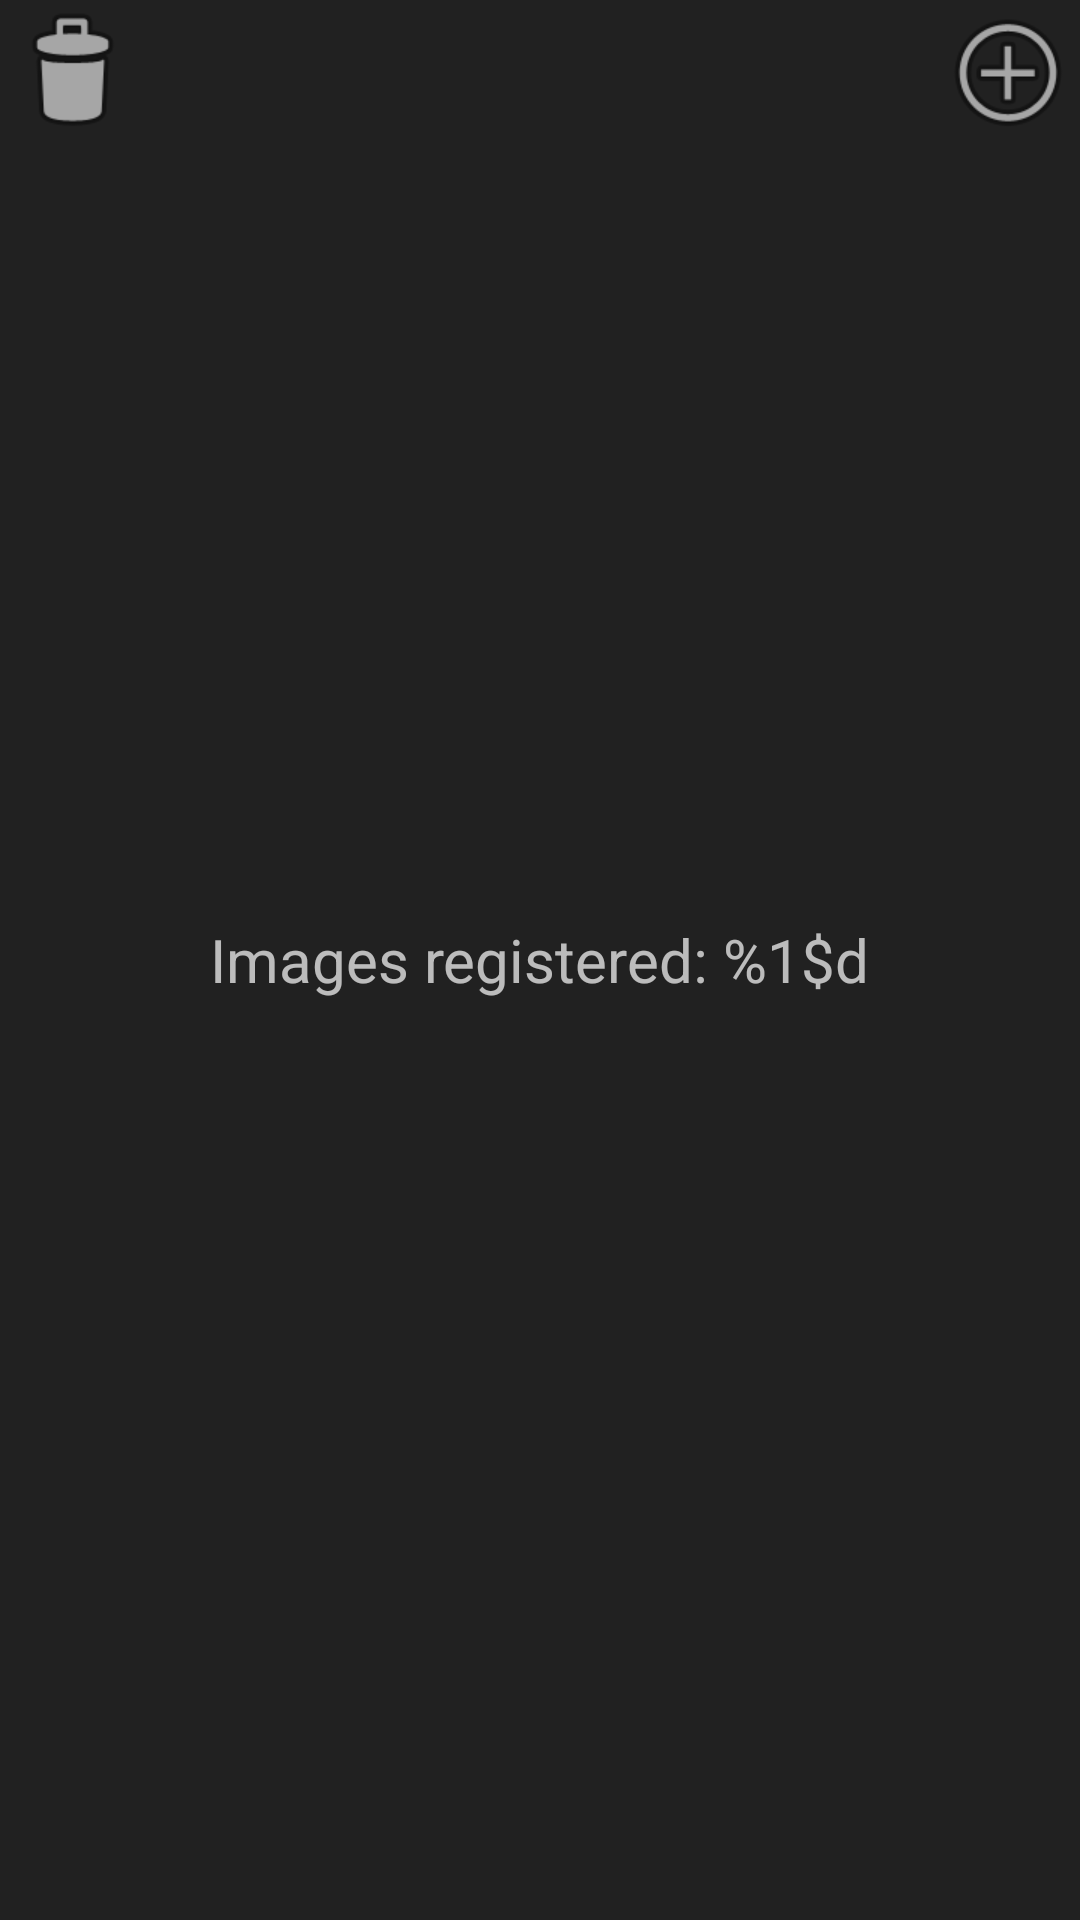

Icon bounding boxes for this 1080×1920 phone screenshot, format (x1, y1, x2, y2):
add: (959, 24, 1057, 122)
delete: (37, 18, 109, 122)
